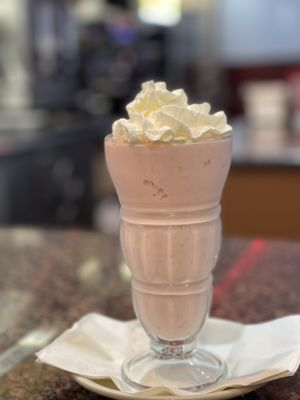curry: (0, 221, 300, 397)
